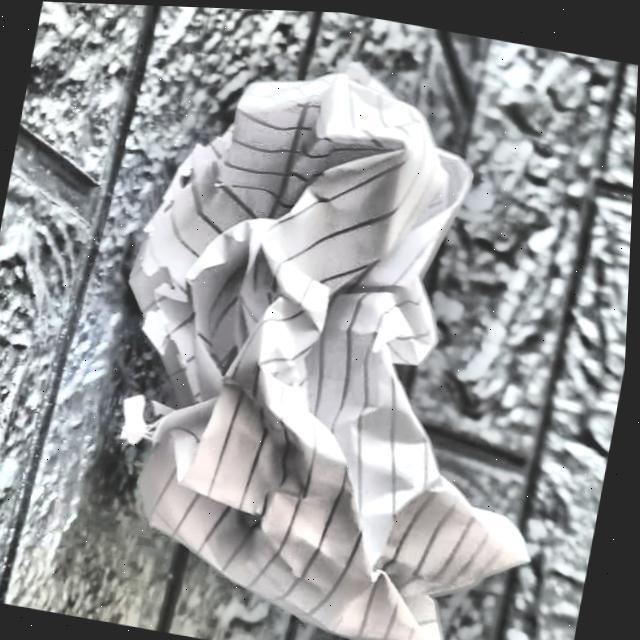paper: (64, 39, 613, 640)
